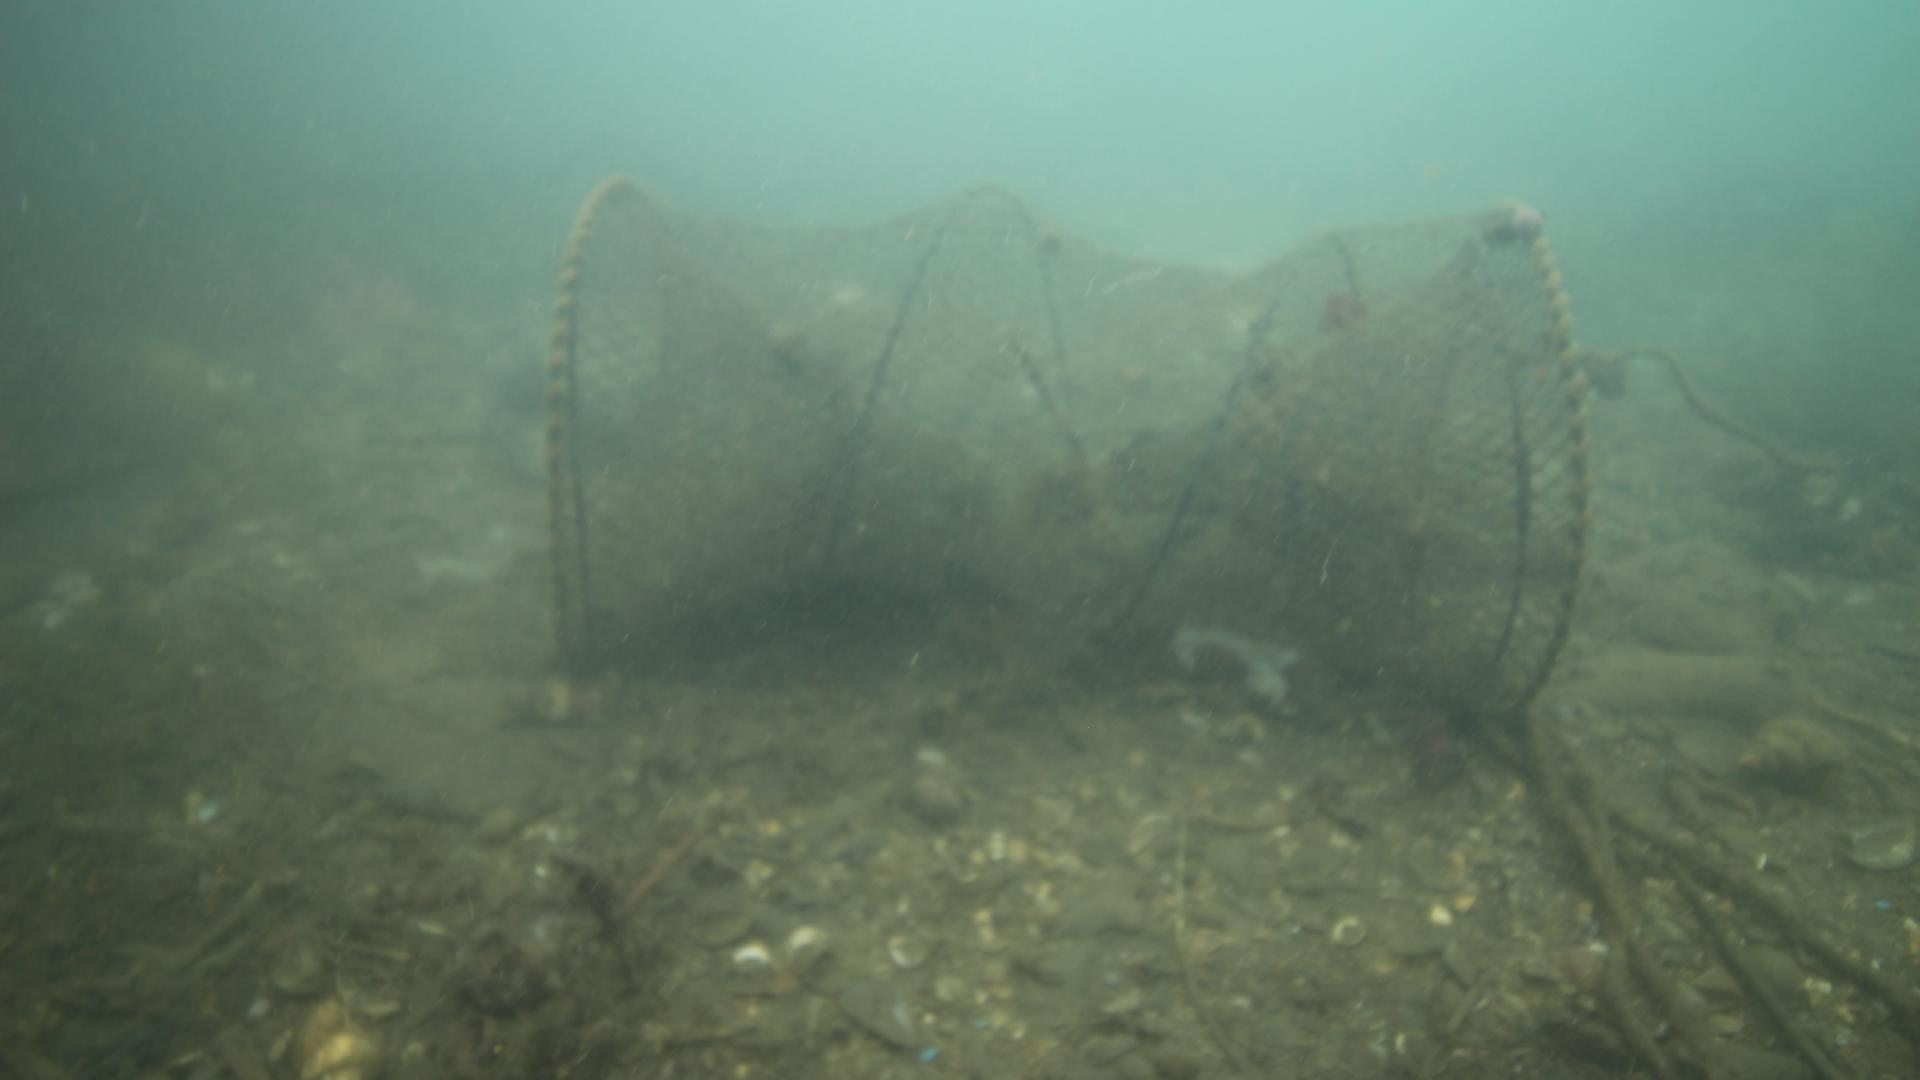spring fish trap: (542, 173, 1590, 719)
